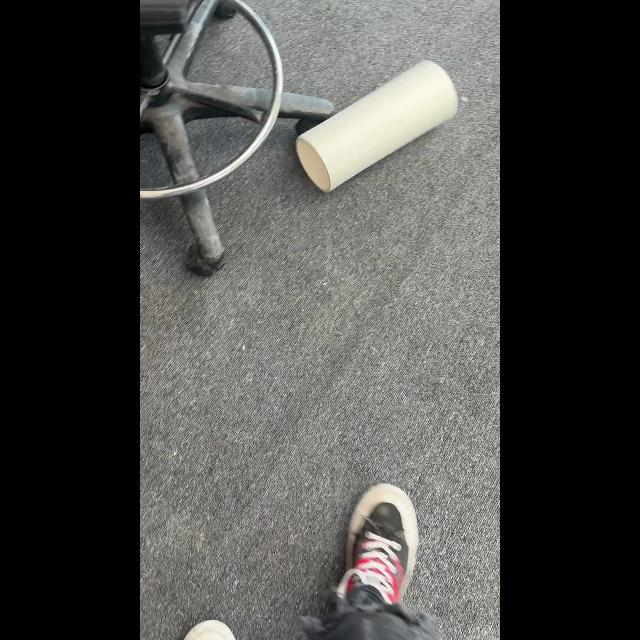CORAL: (294, 59, 458, 193)
